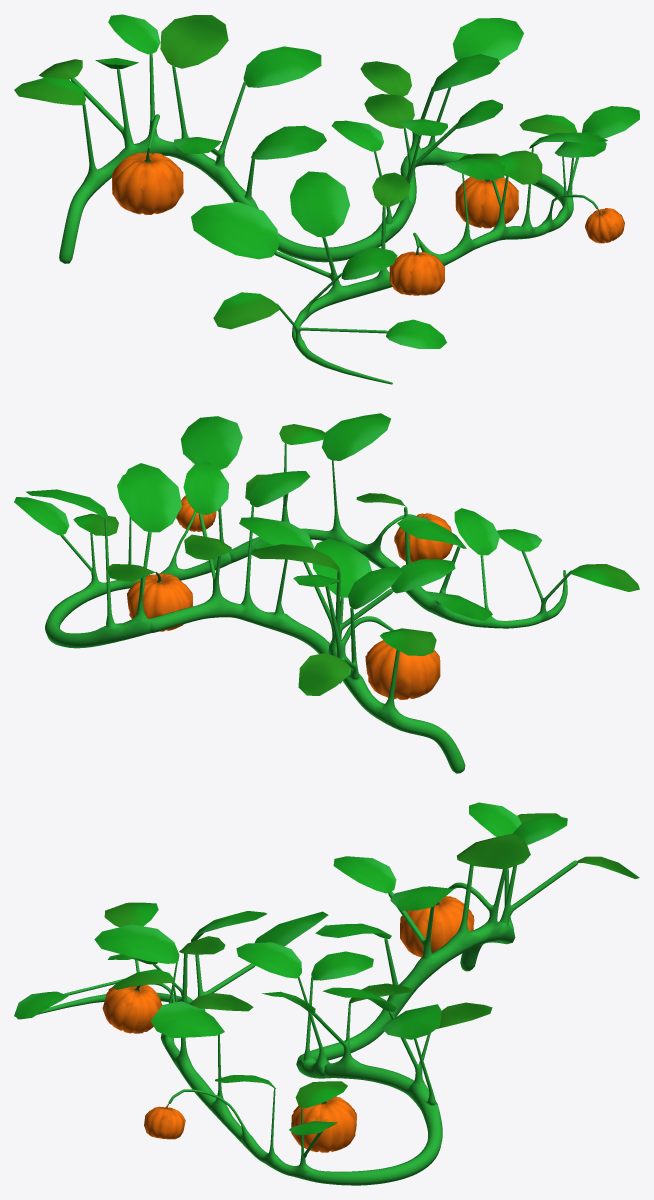
File: Pumpkin3.fbx
3 renders of one model, top to bottom at view 1: azimuth 30°, elevation 25°; view 2: azimuth 150°, elevation 25°; view 3: azimuth 270°, elevation 25°, orthographic. The views are drawn at different scales.
Parts seen in each view (by area): view 1: 3; view 2: 3; view 3: 3.
Boxes of the visible parts, bbox=[...] form: 3: bbox=[14, 14, 639, 384]; 3: bbox=[14, 413, 639, 773]; 3: bbox=[14, 802, 639, 1185].
Bounding box in the file's own units: 164 × 58.76 × 166.
